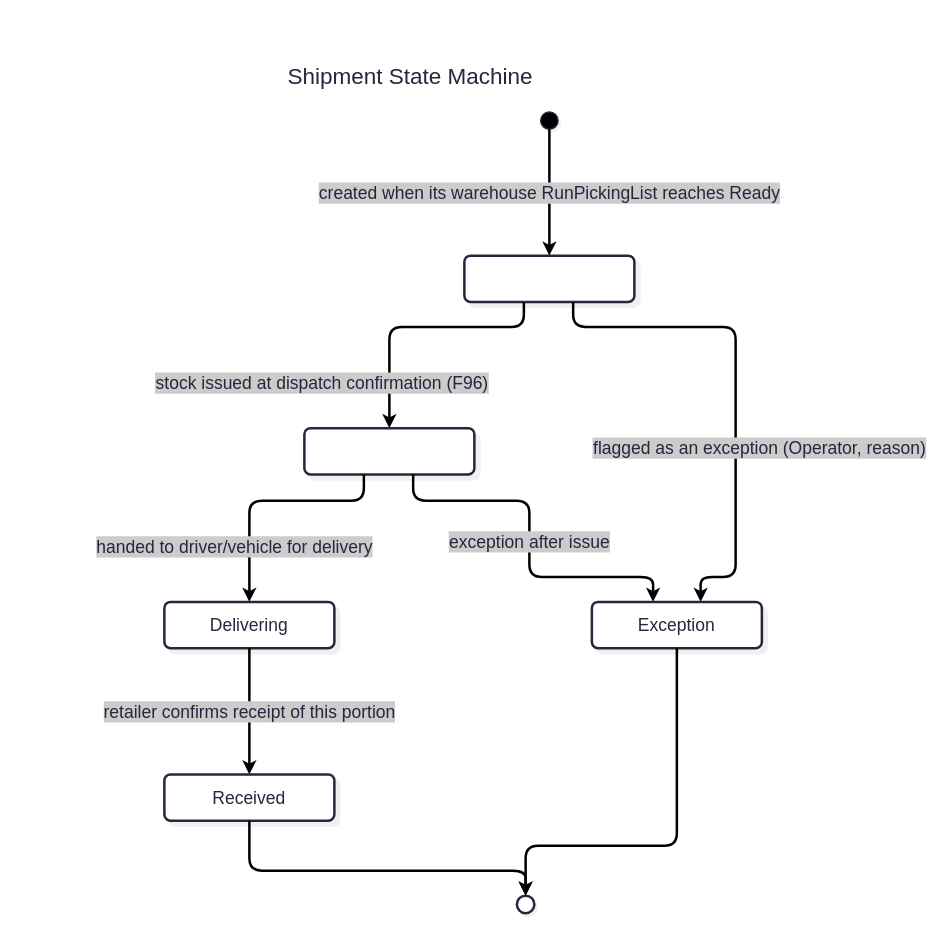
This 946x938 diagram has some shape labels left out. The shapes that lost their labels are listed below. From the top down, each one's centre as x and y in pixels, then its label:
At (551,281): "Ready".
At (391,453): "Issued".
